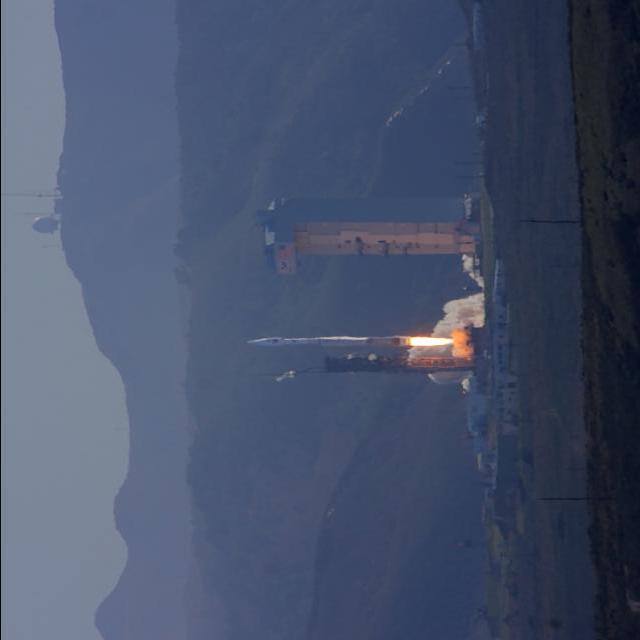missile: (240, 330, 501, 393)
